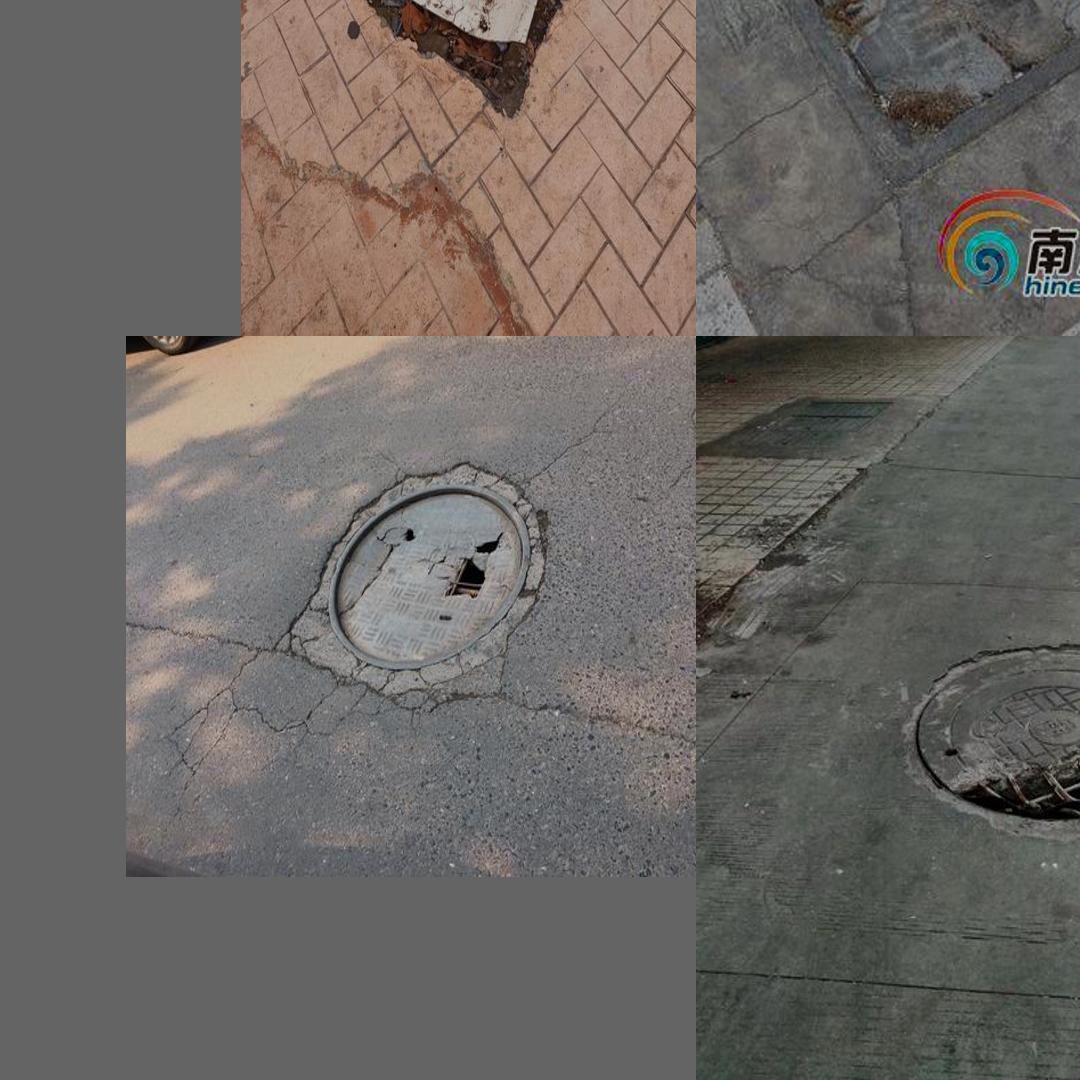broke: (289, 458, 548, 706), (729, 0, 1080, 175), (858, 603, 1080, 875), (301, 0, 626, 143)
